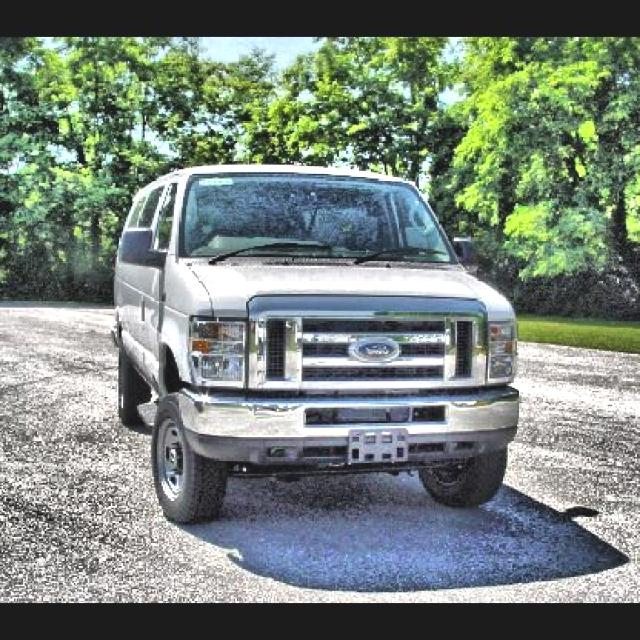silver: (112, 164, 517, 508)
